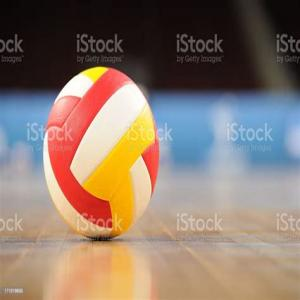Volley: (43, 67, 160, 239)
